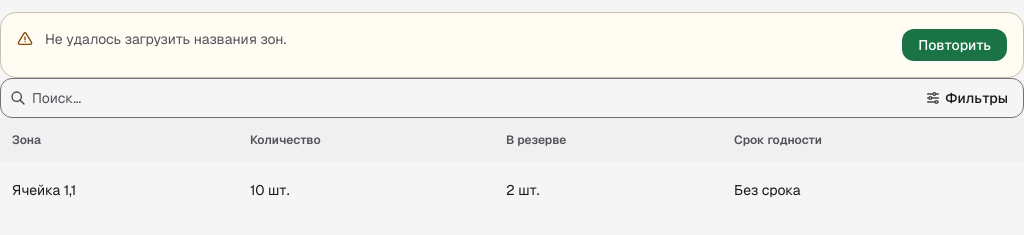
Test: batches remain visible through a failed layout read and acquire zone names on retry
This screenshot has width=1024, height=235.
Expected: the cell "10 шт." is shown, [238,162,494,218]
Expected: the text "Не удалось загрузить названия зон." is shown, [45,30,286,48]
Click the button "Повторить".
click(955, 45)  # box [902,29,1007,61]
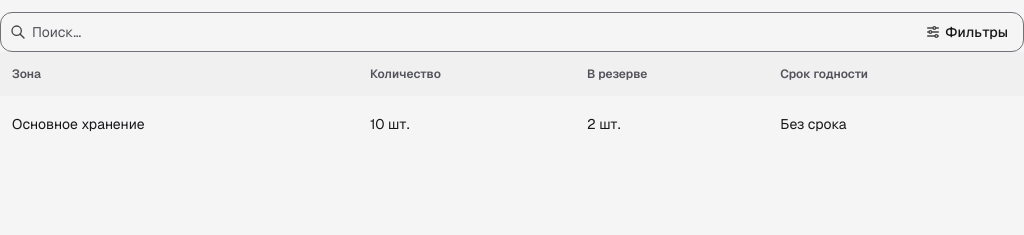
Now the cell "Основное хранение" is shown, box [0,96,358,152]
Now the cell "Ячейка 1,1" is gone
